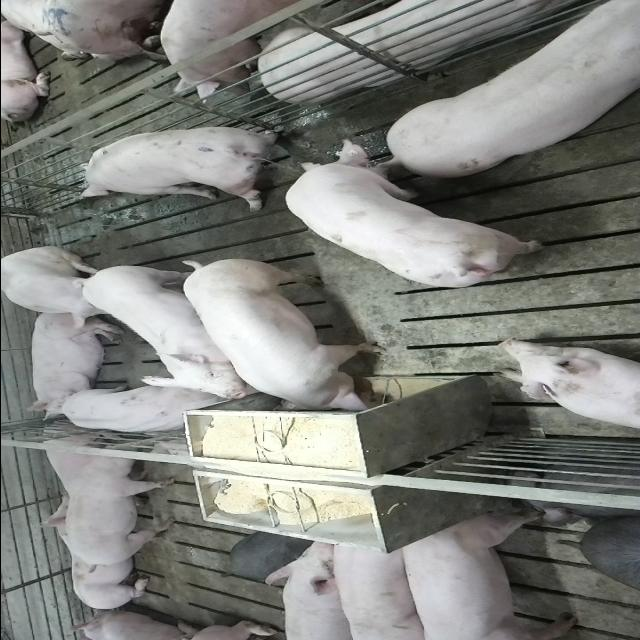Feeding: (176, 260, 394, 420)
Lateral_lying: (157, 0, 593, 102), (23, 310, 126, 416)
Sitting: (1, 245, 129, 328)
Standing: (382, 0, 640, 174), (286, 136, 546, 284), (77, 260, 260, 399), (392, 508, 580, 638), (73, 124, 293, 210), (65, 441, 177, 568), (325, 533, 431, 637), (266, 534, 360, 636)
Sternal_lying: (29, 494, 155, 609), (493, 337, 640, 434)
